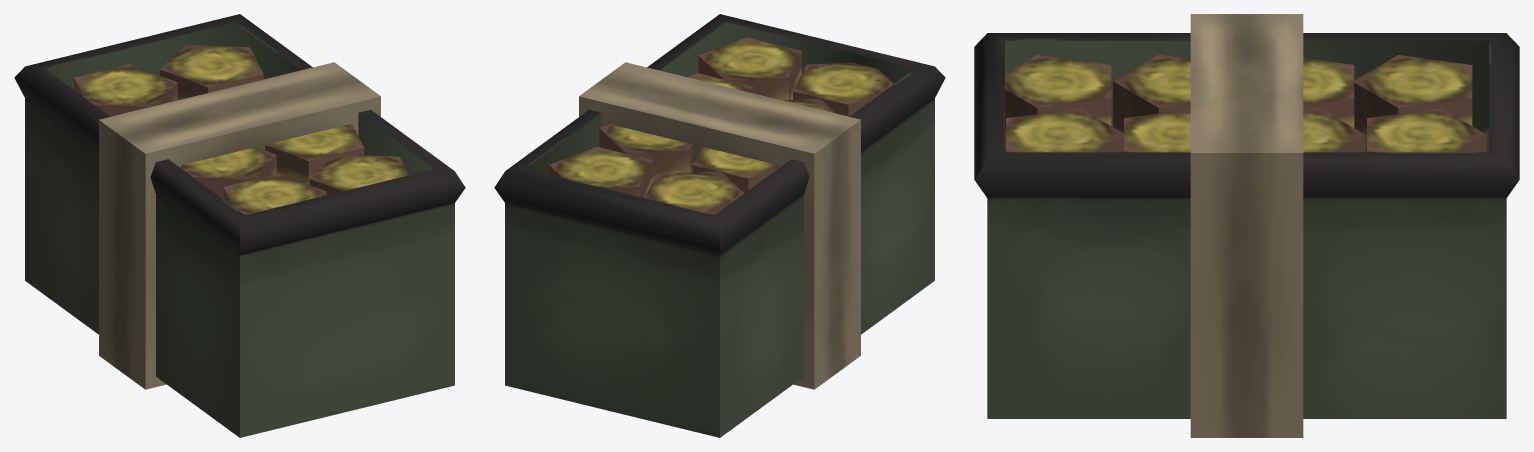
Rendered from ammo_shotgun.fbx.
The picture shows the model from 3 angles, left to right: view 1: azimuth 30°, elevation 25°; view 2: azimuth 150°, elevation 25°; view 3: azimuth 270°, elevation 25°; orthographic projection. The views are drawn at different scales.
Visible parts, largest first — view 1: Cube; view 2: Cube; view 3: Cube.
Boxes of the visible parts, <box> form: Cube: <box>14,14,465,437</box>; Cube: <box>494,14,945,437</box>; Cube: <box>974,14,1519,437</box>.
Size of the model in its own units: 0.2616 by 0.2503 by 0.4339.
Materials: 1 (1 with a texture image).
